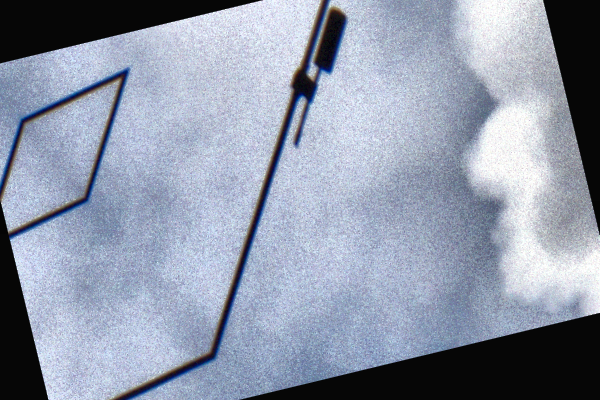damper_defect: (288, 5, 351, 154)
